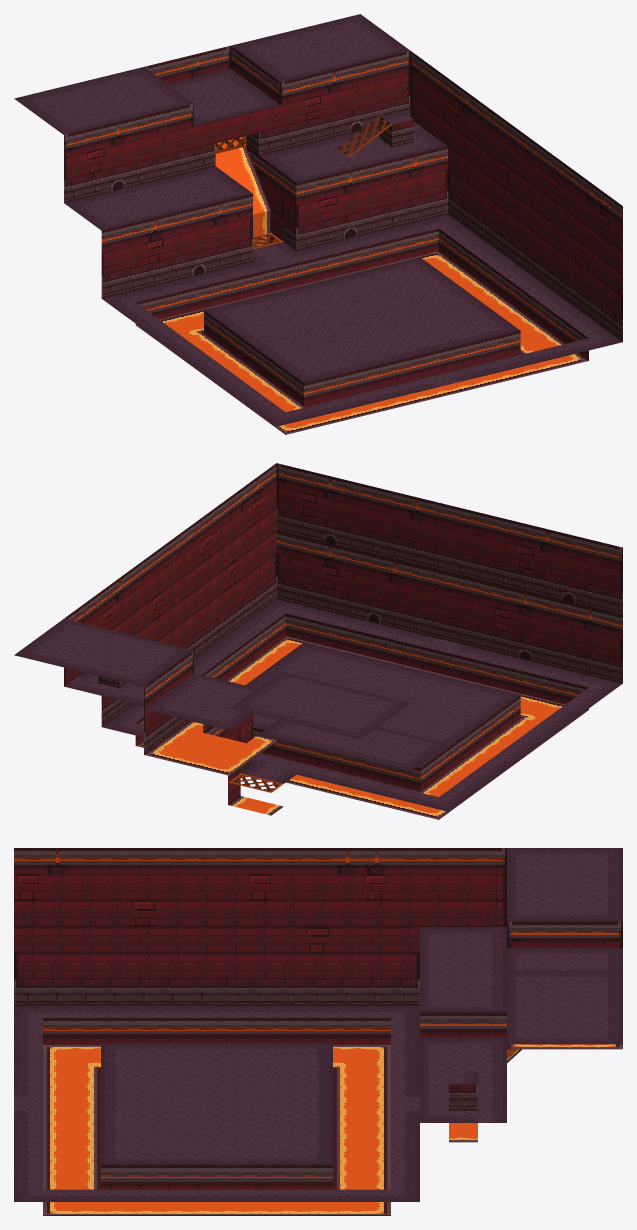
File: forge.glb
3 views of the same model, one above another, from view 1: azimuth 30°, elevation 25°; view 2: azimuth 150°, elevation 25°; view 3: azimuth 270°, elevation 25° (orthographic). The views are drawn at different scales.
Visible parts, largest first — view 1: Object; view 2: Object; view 3: Object.
Part boxes in pixels (x1,y1,x2,y2): Object: [14, 14, 622, 434]; Object: [14, 463, 622, 819]; Object: [14, 848, 622, 1215].
Bounding box in the file's own units: 16 × 7 × 21.
Materials: 1 (1 with a texture image).
